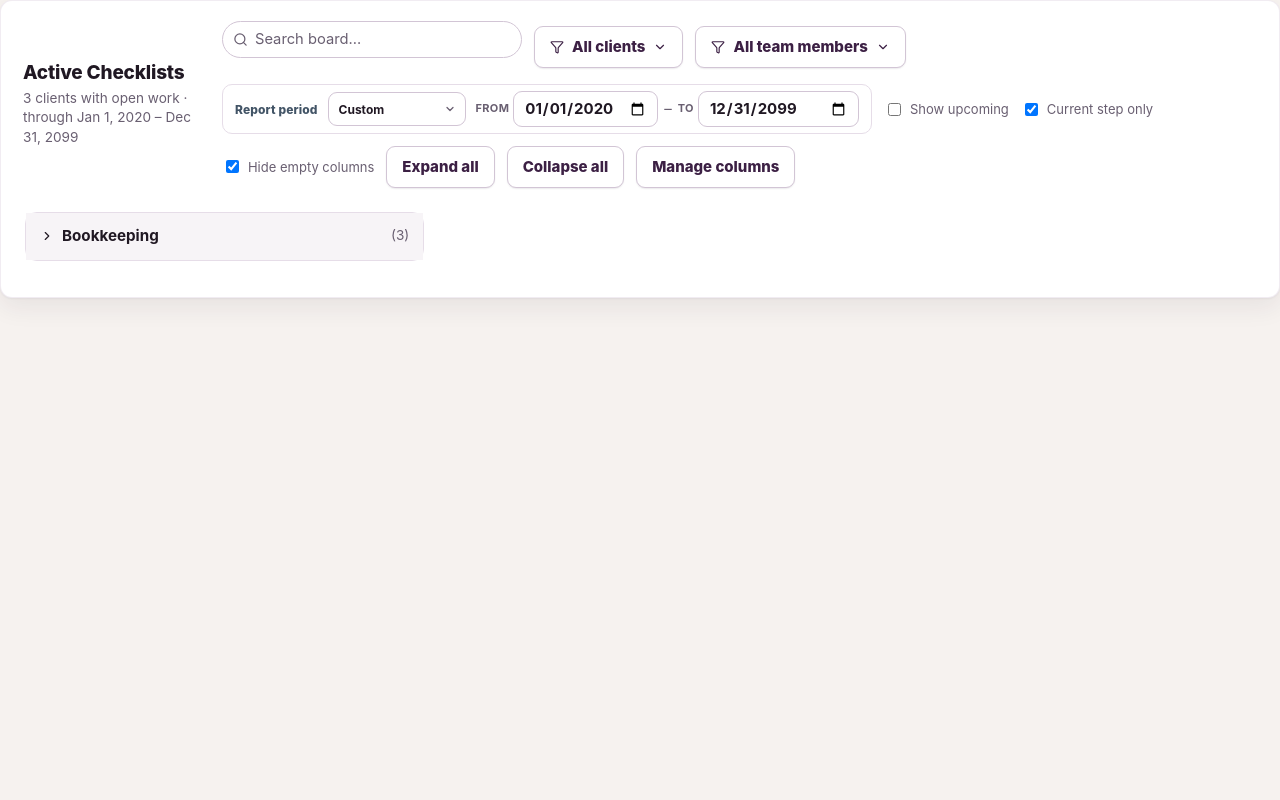
Scenario: Board: Current step only (default ON) › a checklist with no tasks reads "No tasks yet"
What coordinates should you click on to do the following:
click the button "Expand all"
I would click on:
 (440, 167)
Its box is [386, 146, 495, 188].
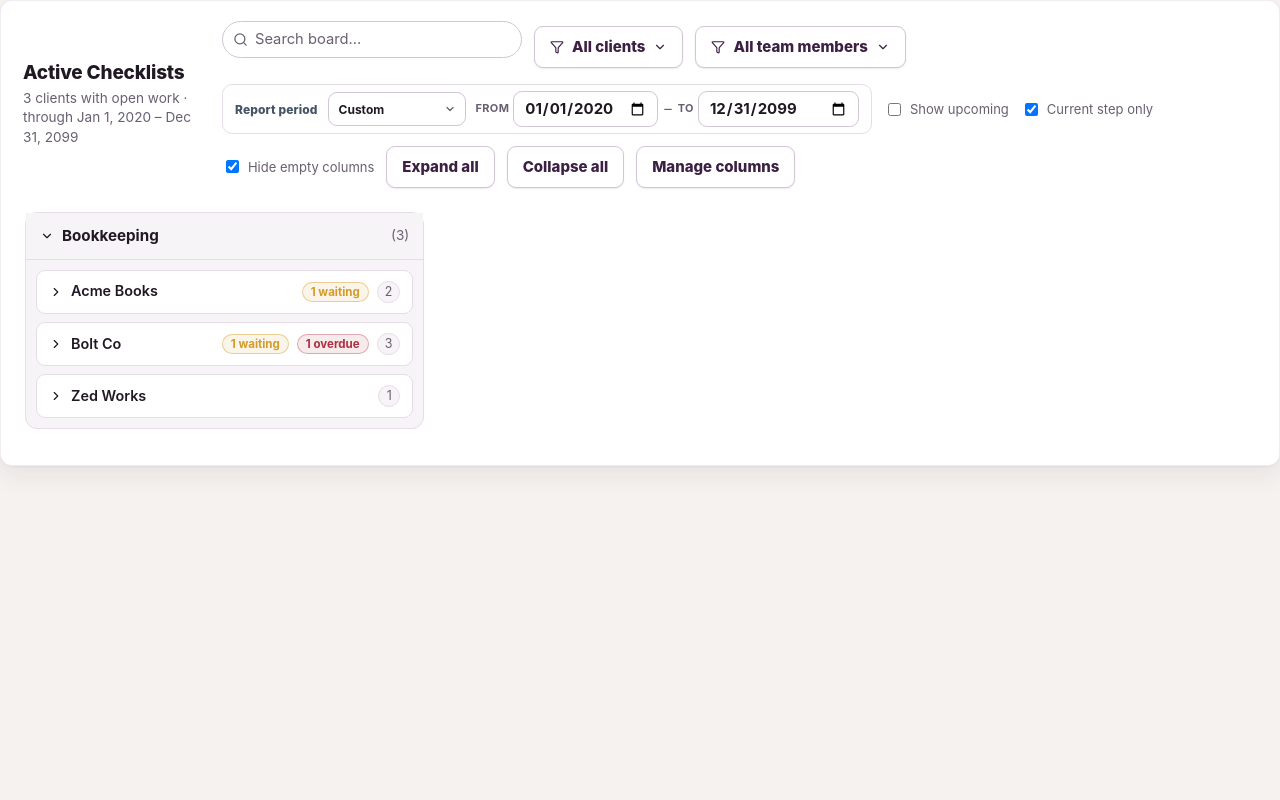
What coordinates should you click on to do the following:
click the button with class "board-client-toggle" showing "Acme Books 1 waiting 2"
I would click on:
 (114, 291)
Its box is [37, 271, 412, 313].
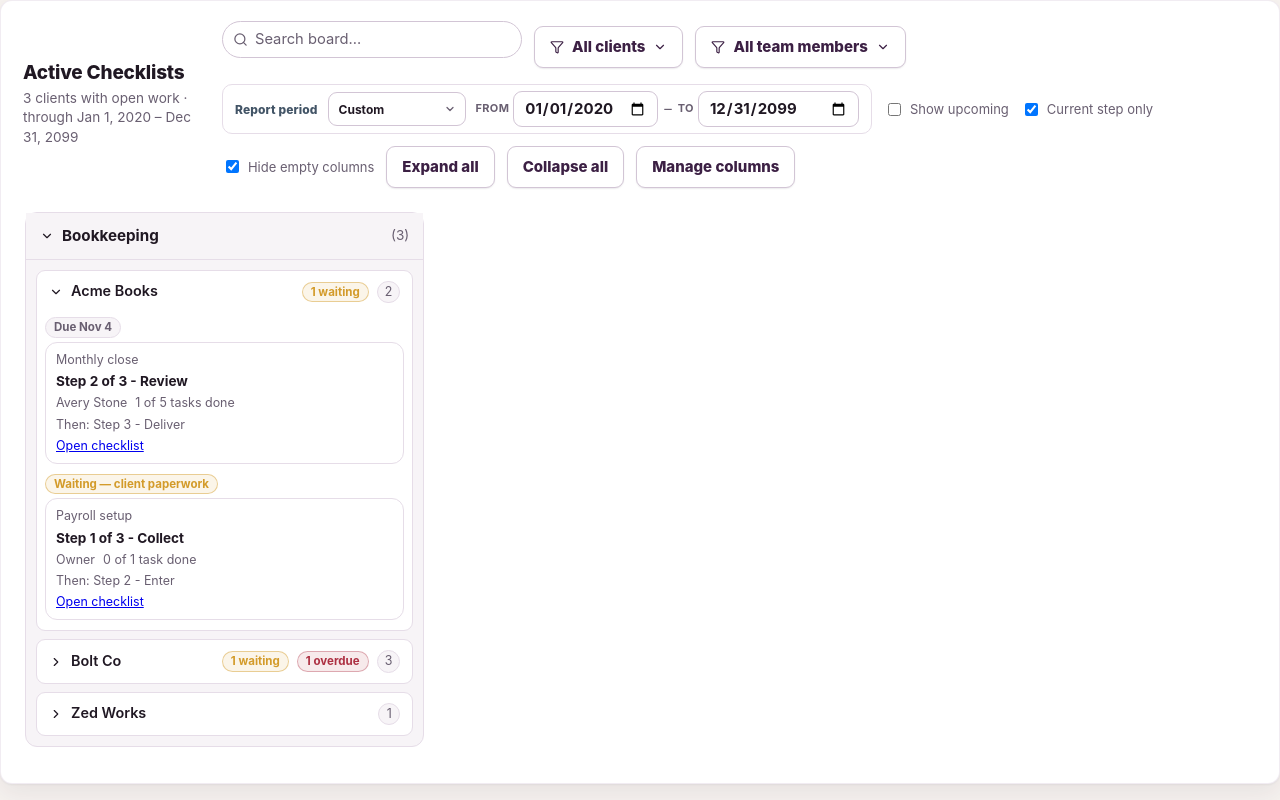
What coordinates should you click on to do the following:
click the button with class "board-client-toggle" showing "Bolt Co 1 waiting 1 overdue 3"
I would click on:
 (225, 662)
Its box is [37, 640, 412, 683].
(page scrolled)
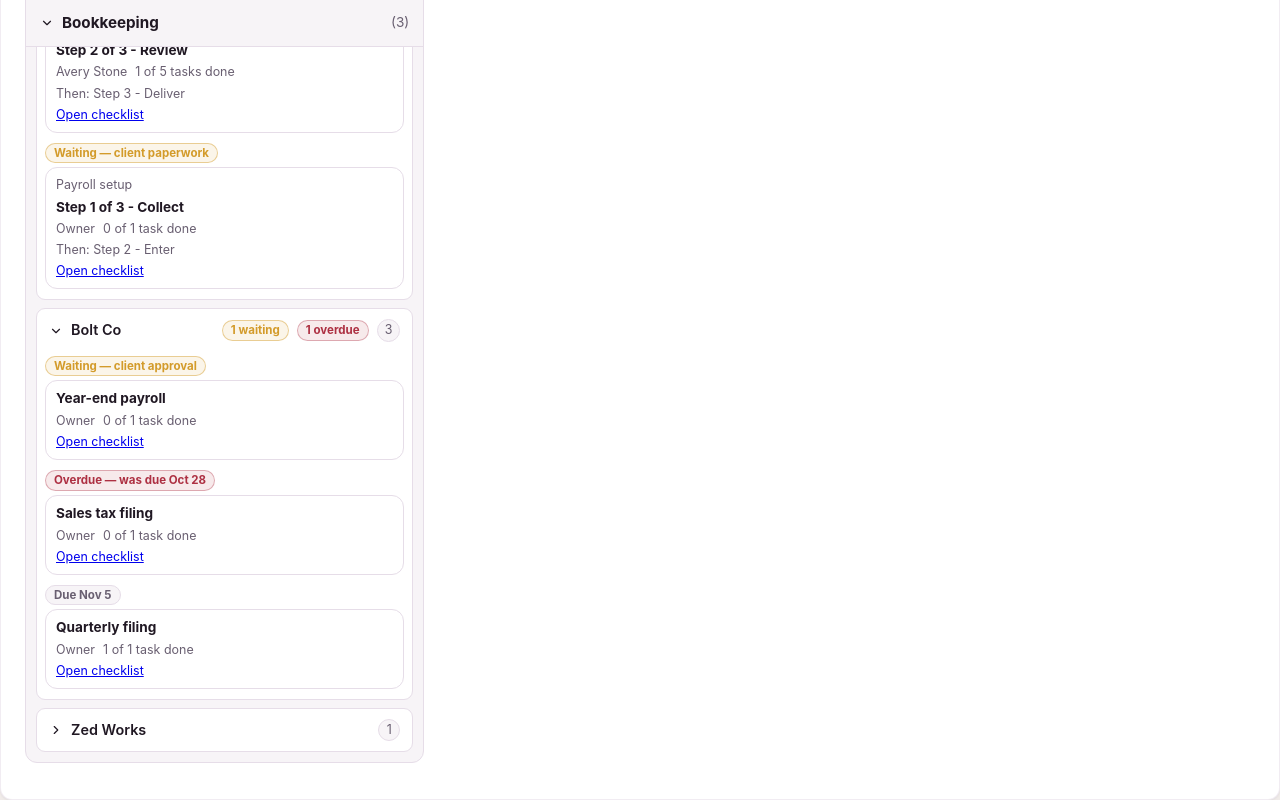
What coordinates should you click on to do the following:
click the button with class "board-client-toggle" showing "Zed Works 1"
I would click on:
 (109, 729)
Its box is [37, 709, 412, 751].
(page scrolled)
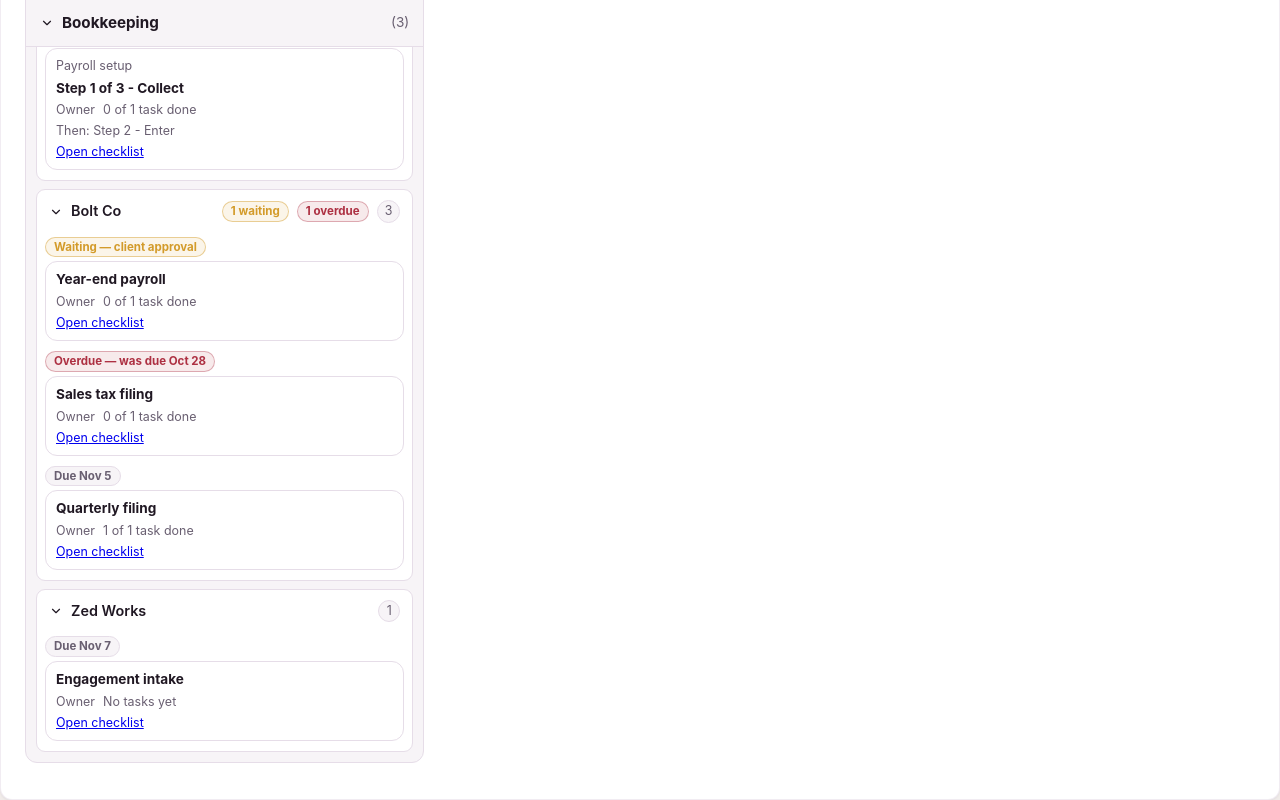
Check: the text "No tasks yet" is shown, box [103, 693, 176, 711]
